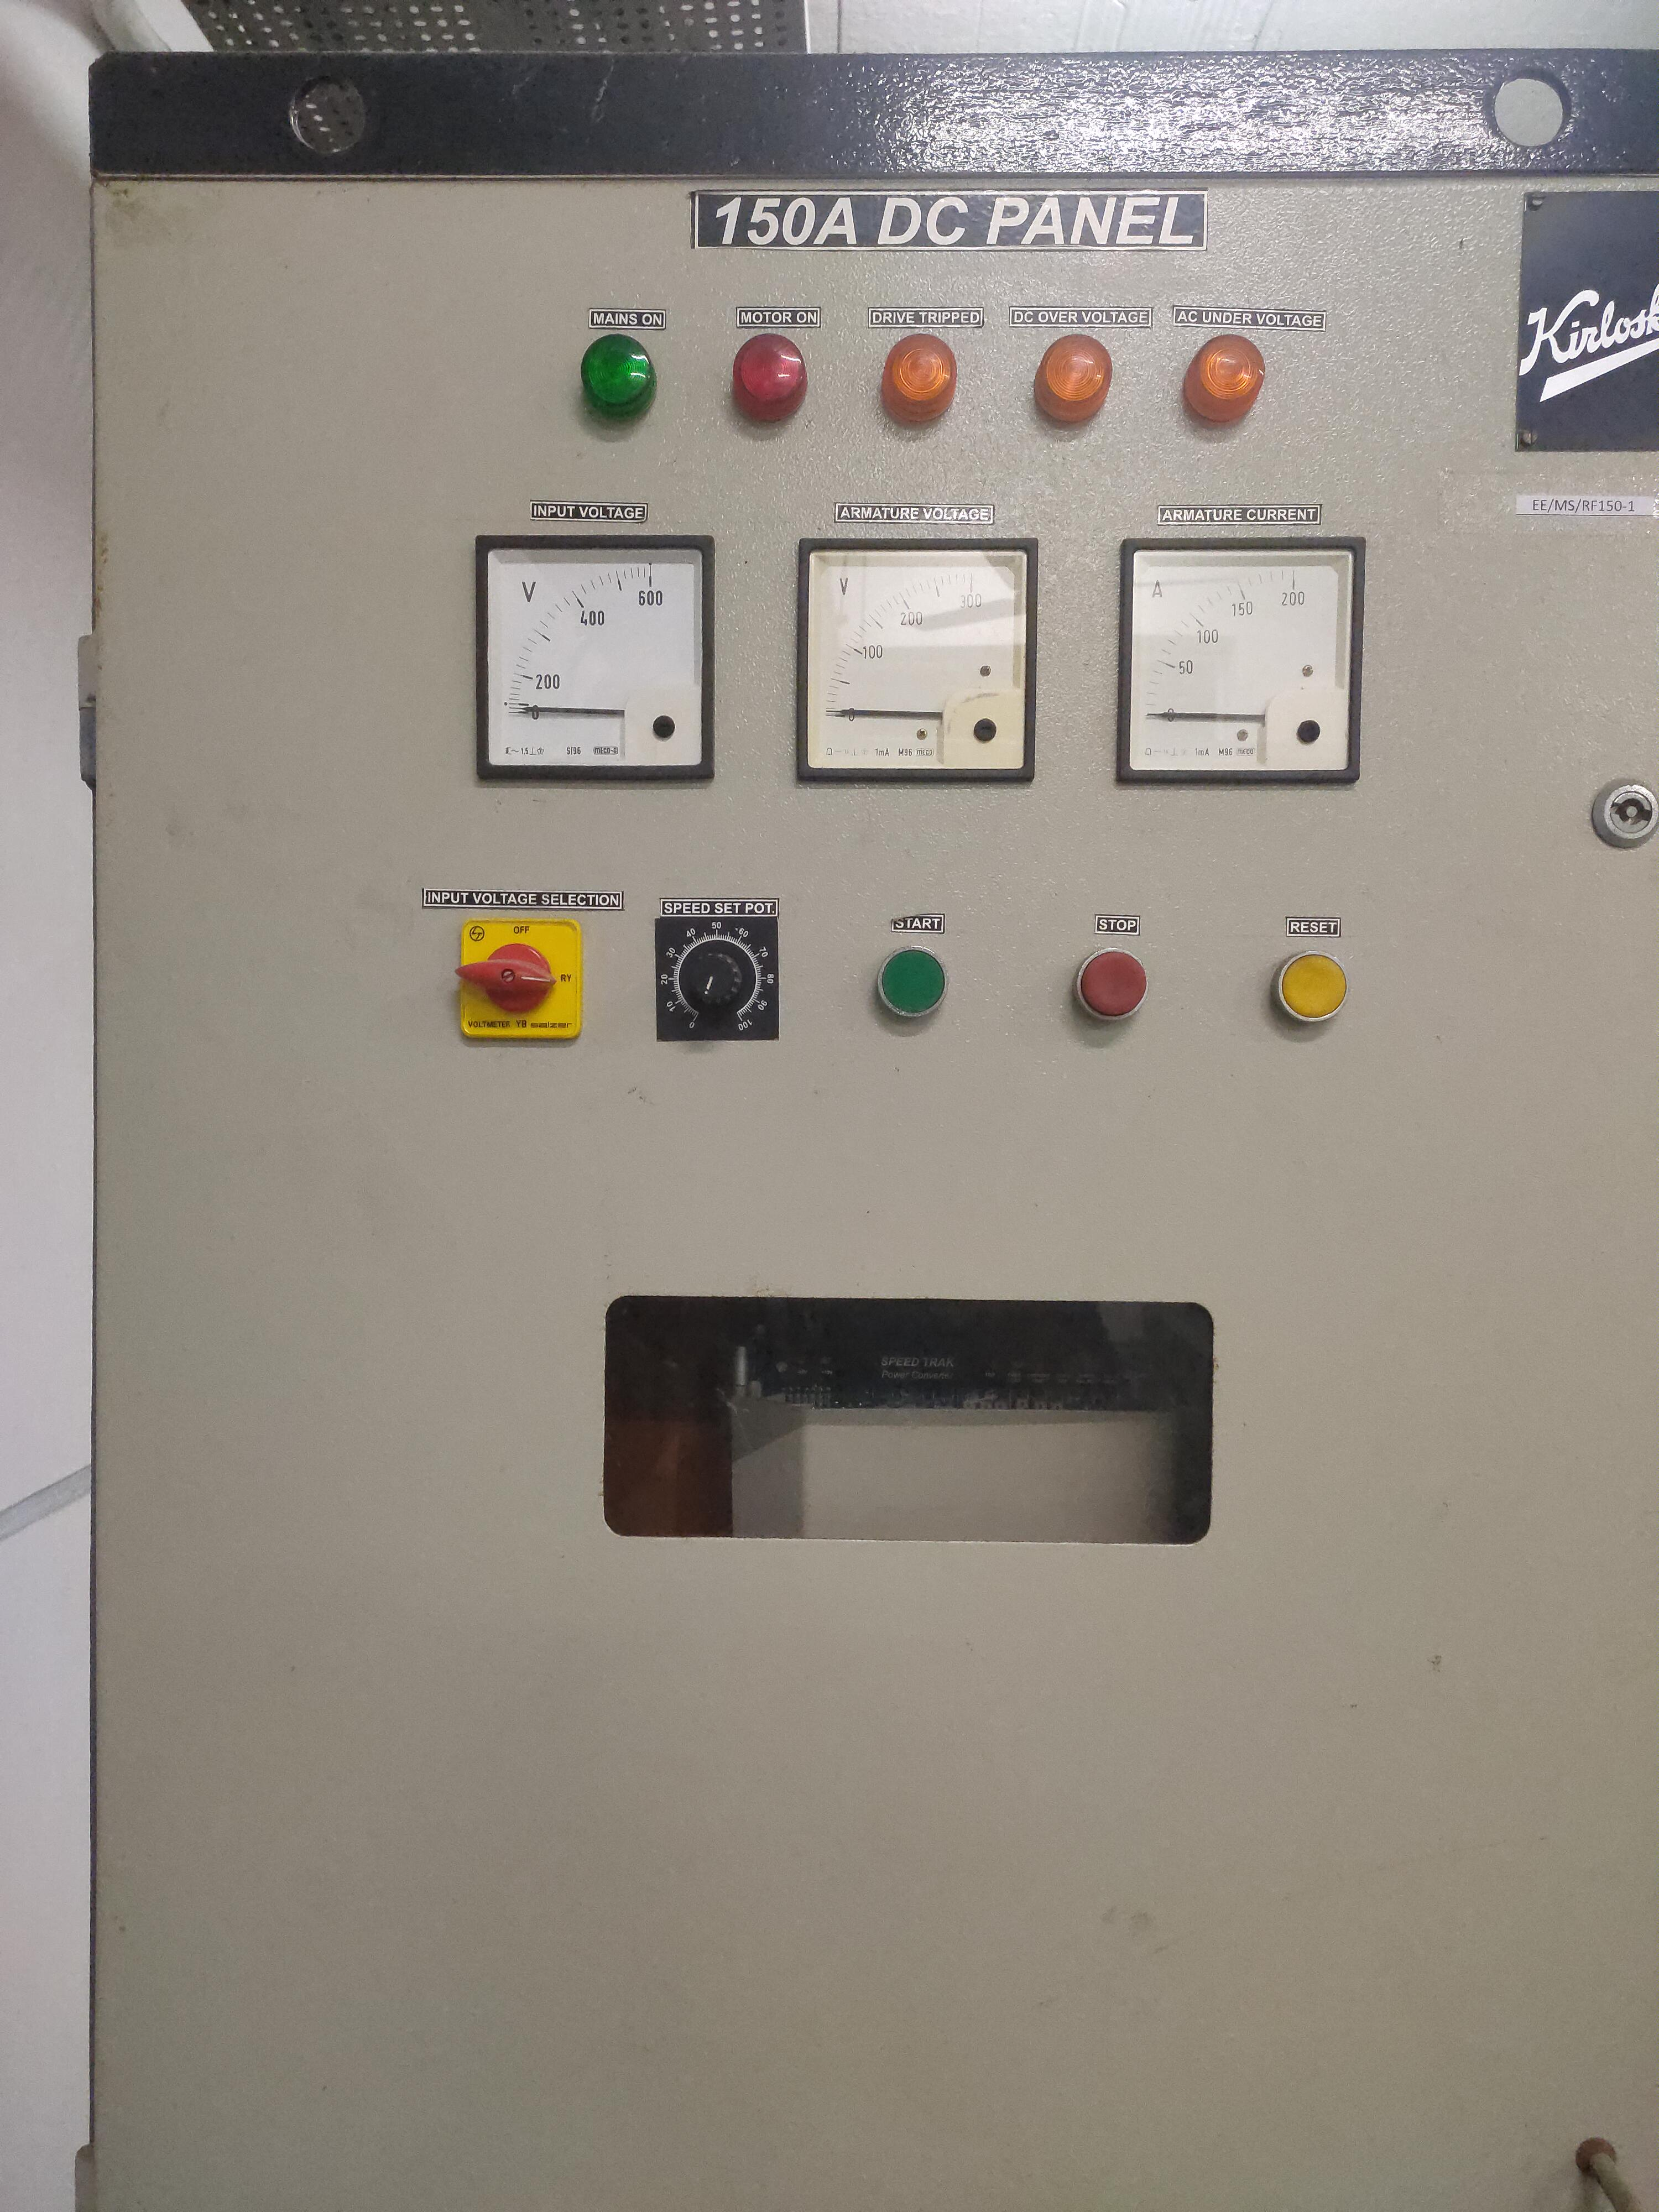Light Indications: (516, 286, 1305, 484)
